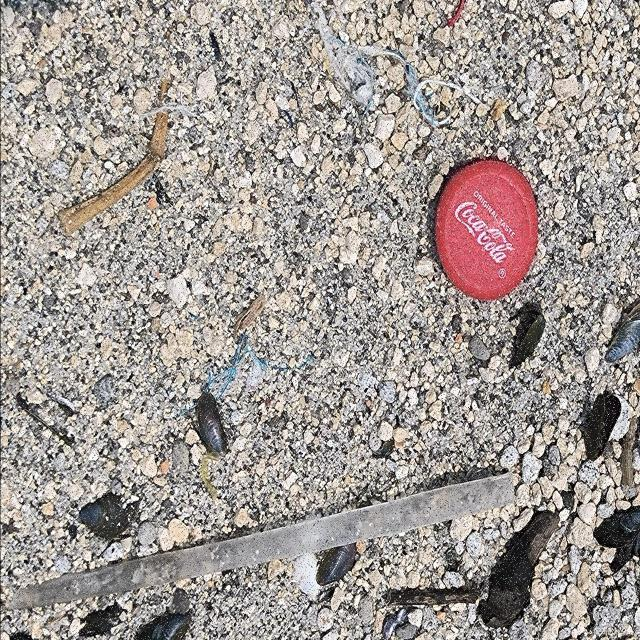plastic_waste: (7, 468, 520, 616), (434, 159, 540, 303)
